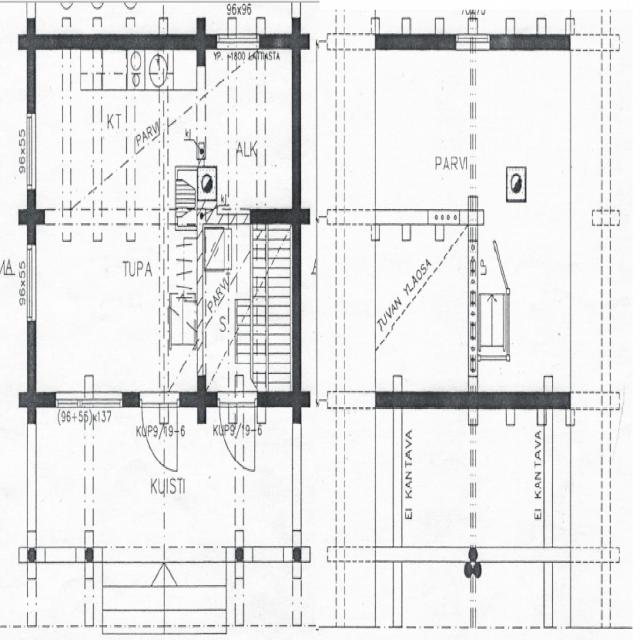door: (219, 392, 255, 471), (142, 391, 177, 470)
